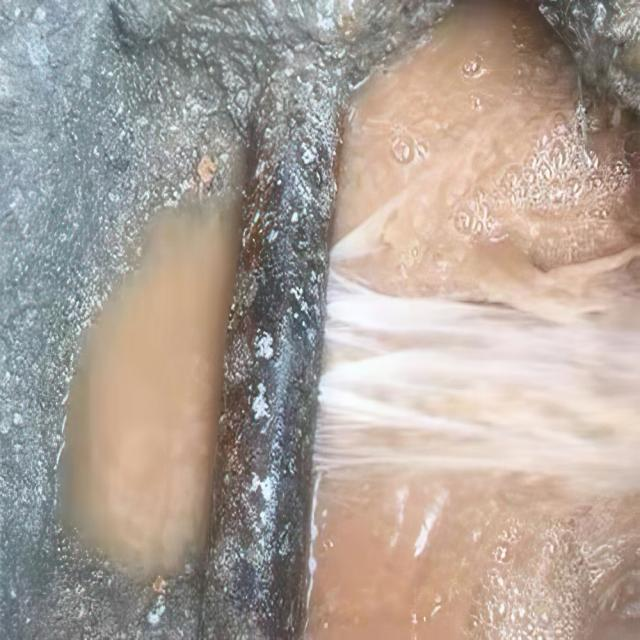leak: (315, 270, 640, 495)
